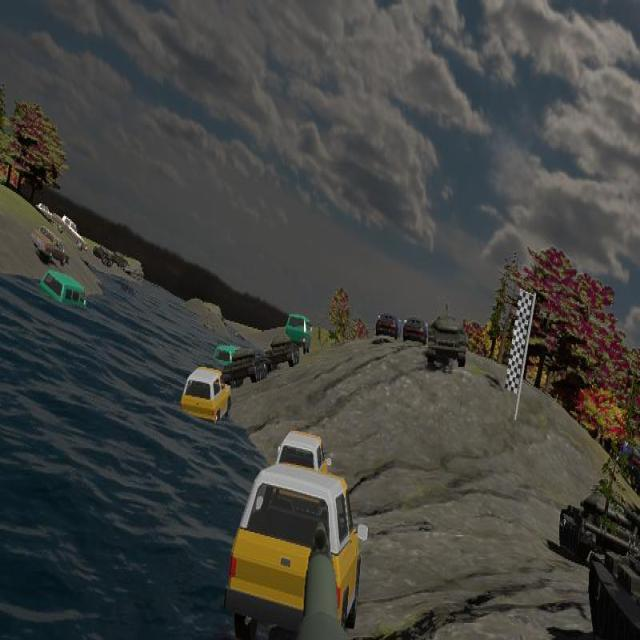Tank: (587, 521, 640, 640), (559, 488, 638, 565), (426, 314, 466, 369), (223, 346, 261, 388), (267, 335, 299, 371)
car: (226, 462, 370, 639), (180, 367, 232, 427), (39, 269, 87, 322), (32, 225, 70, 266), (285, 312, 312, 355)
